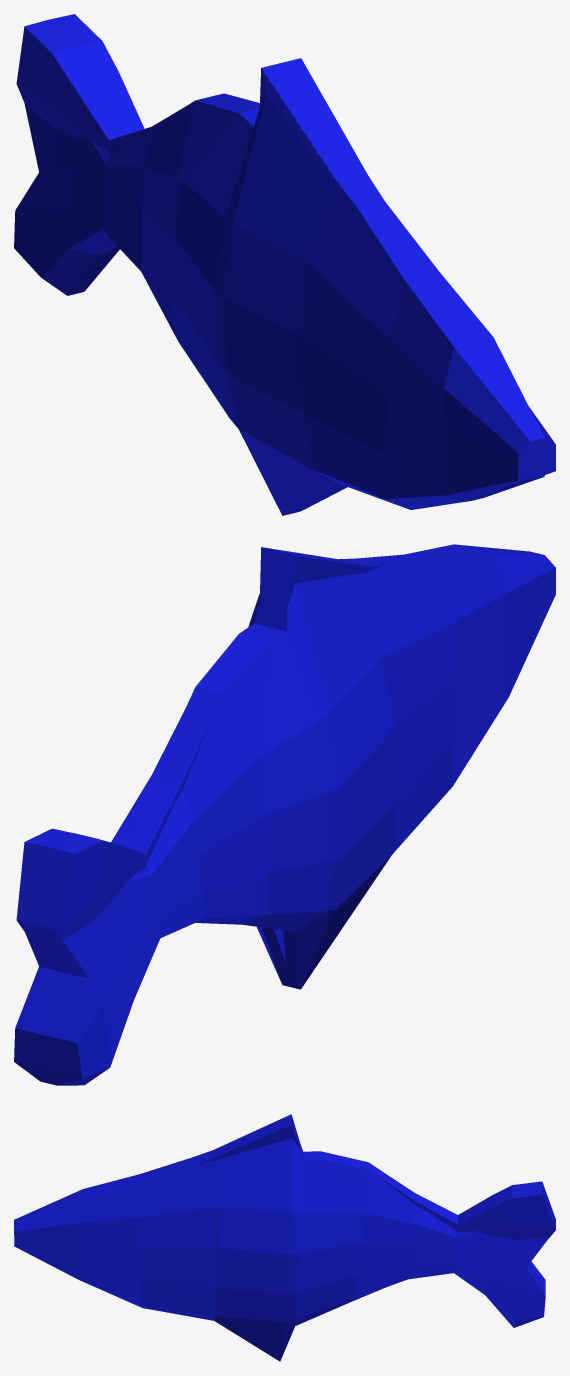
Rendered from poisson 1.fbx.
3 renders of one model, top to bottom at view 1: azimuth 30°, elevation 25°; view 2: azimuth 150°, elevation 25°; view 3: azimuth 270°, elevation 25°, orthographic. The views are drawn at different scales.
Parts seen in each view (by area): view 1: Plane; view 2: Plane; view 3: Plane.
Part boxes in pixels (box(x1,y1,x2,y2)): Plane: box(14, 14, 555, 515); Plane: box(14, 544, 555, 1085); Plane: box(14, 1114, 555, 1361).
Size of the model in its own units: 51.35 by 180 by 369.
